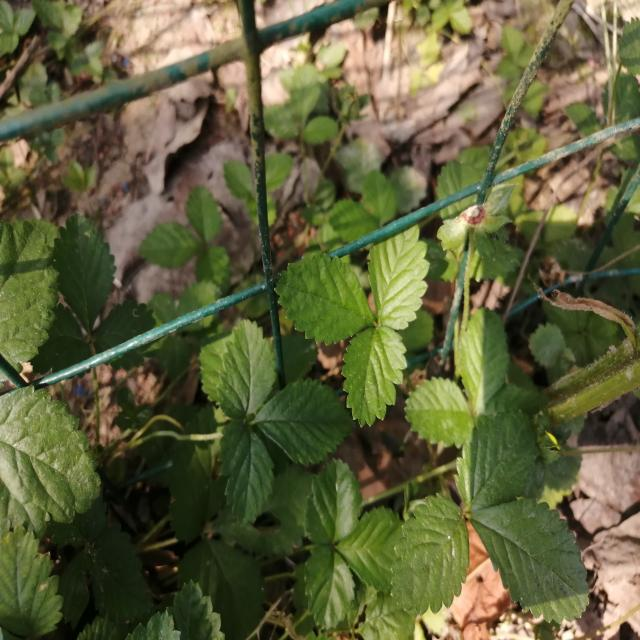Mock_strawberry: (377, 390, 590, 634), (220, 338, 400, 616), (294, 223, 454, 411)
